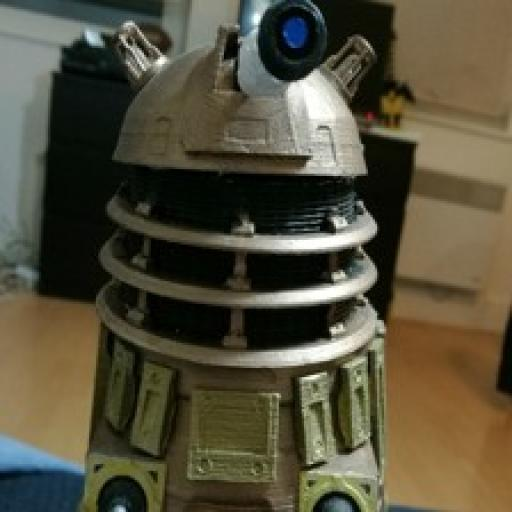dalek: (78, 0, 390, 512)
